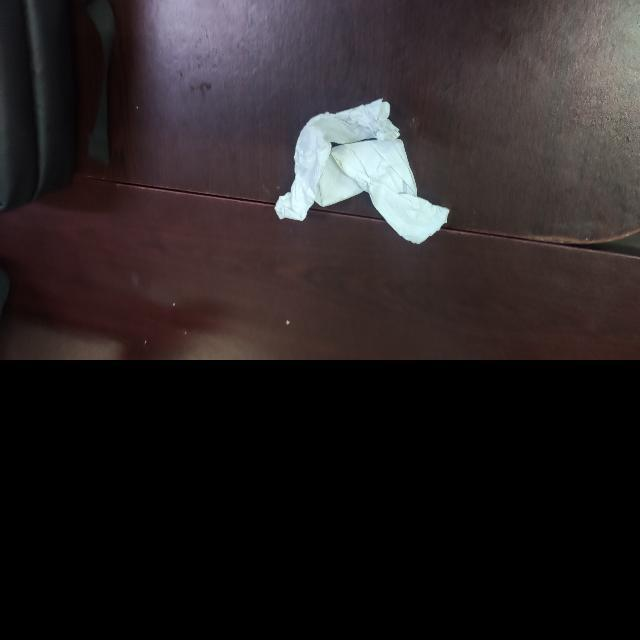kitchen paper: (274, 94, 450, 253)
